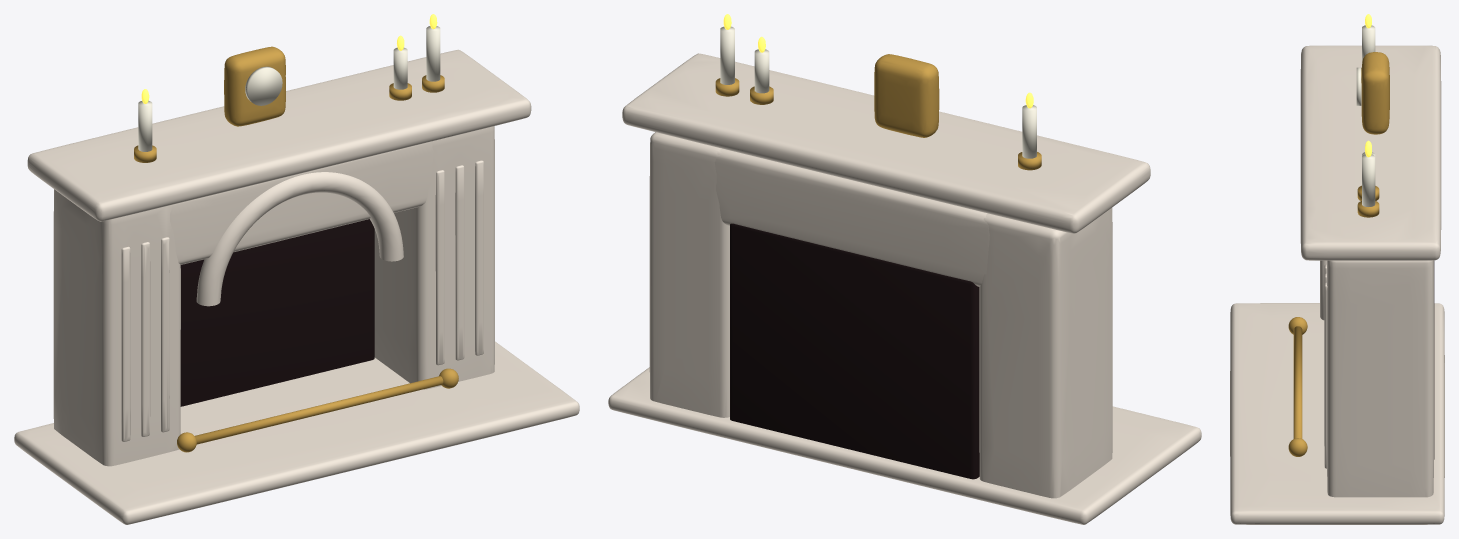
Rendered from plush_fireplace.glb.
3 views of the same model, side by side, from view 1: azimuth 30°, elevation 25°; view 2: azimuth 150°, elevation 25°; view 3: azimuth 270°, elevation 25° (orthographic). The views are drawn at different scales.
Visible parts, largest first — view 1: pillar-1; view 2: pillar-1; view 3: pillar-1.
Boxes of the visible parts, left/top/right/bottom form: pillar-1: left=14, top=26, right=579, bottom=524; pillar-1: left=608, top=26, right=1201, bottom=524; pillar-1: left=1230, top=25, right=1444, bottom=524.
Size of the model in its own units: 2.1 by 1.62 by 0.8993.
2 materials, 2 textured.
